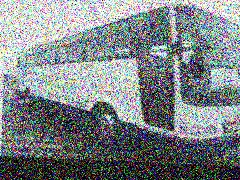bus: (13, 0, 240, 157)
